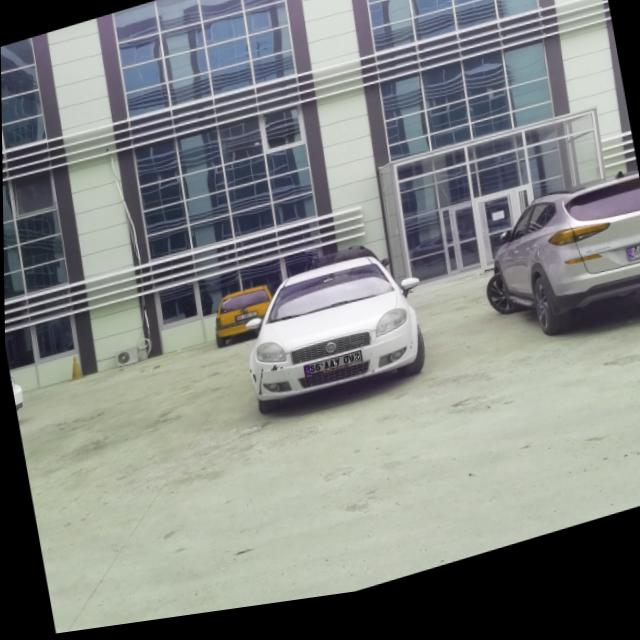license_plate: (303, 360, 362, 386), (625, 262, 640, 280)
